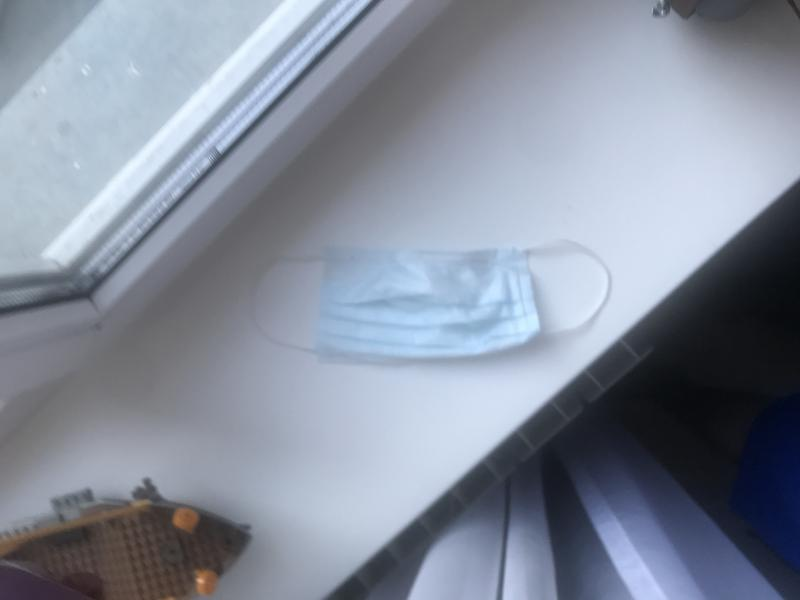medical_mask: (246, 239, 611, 351)
